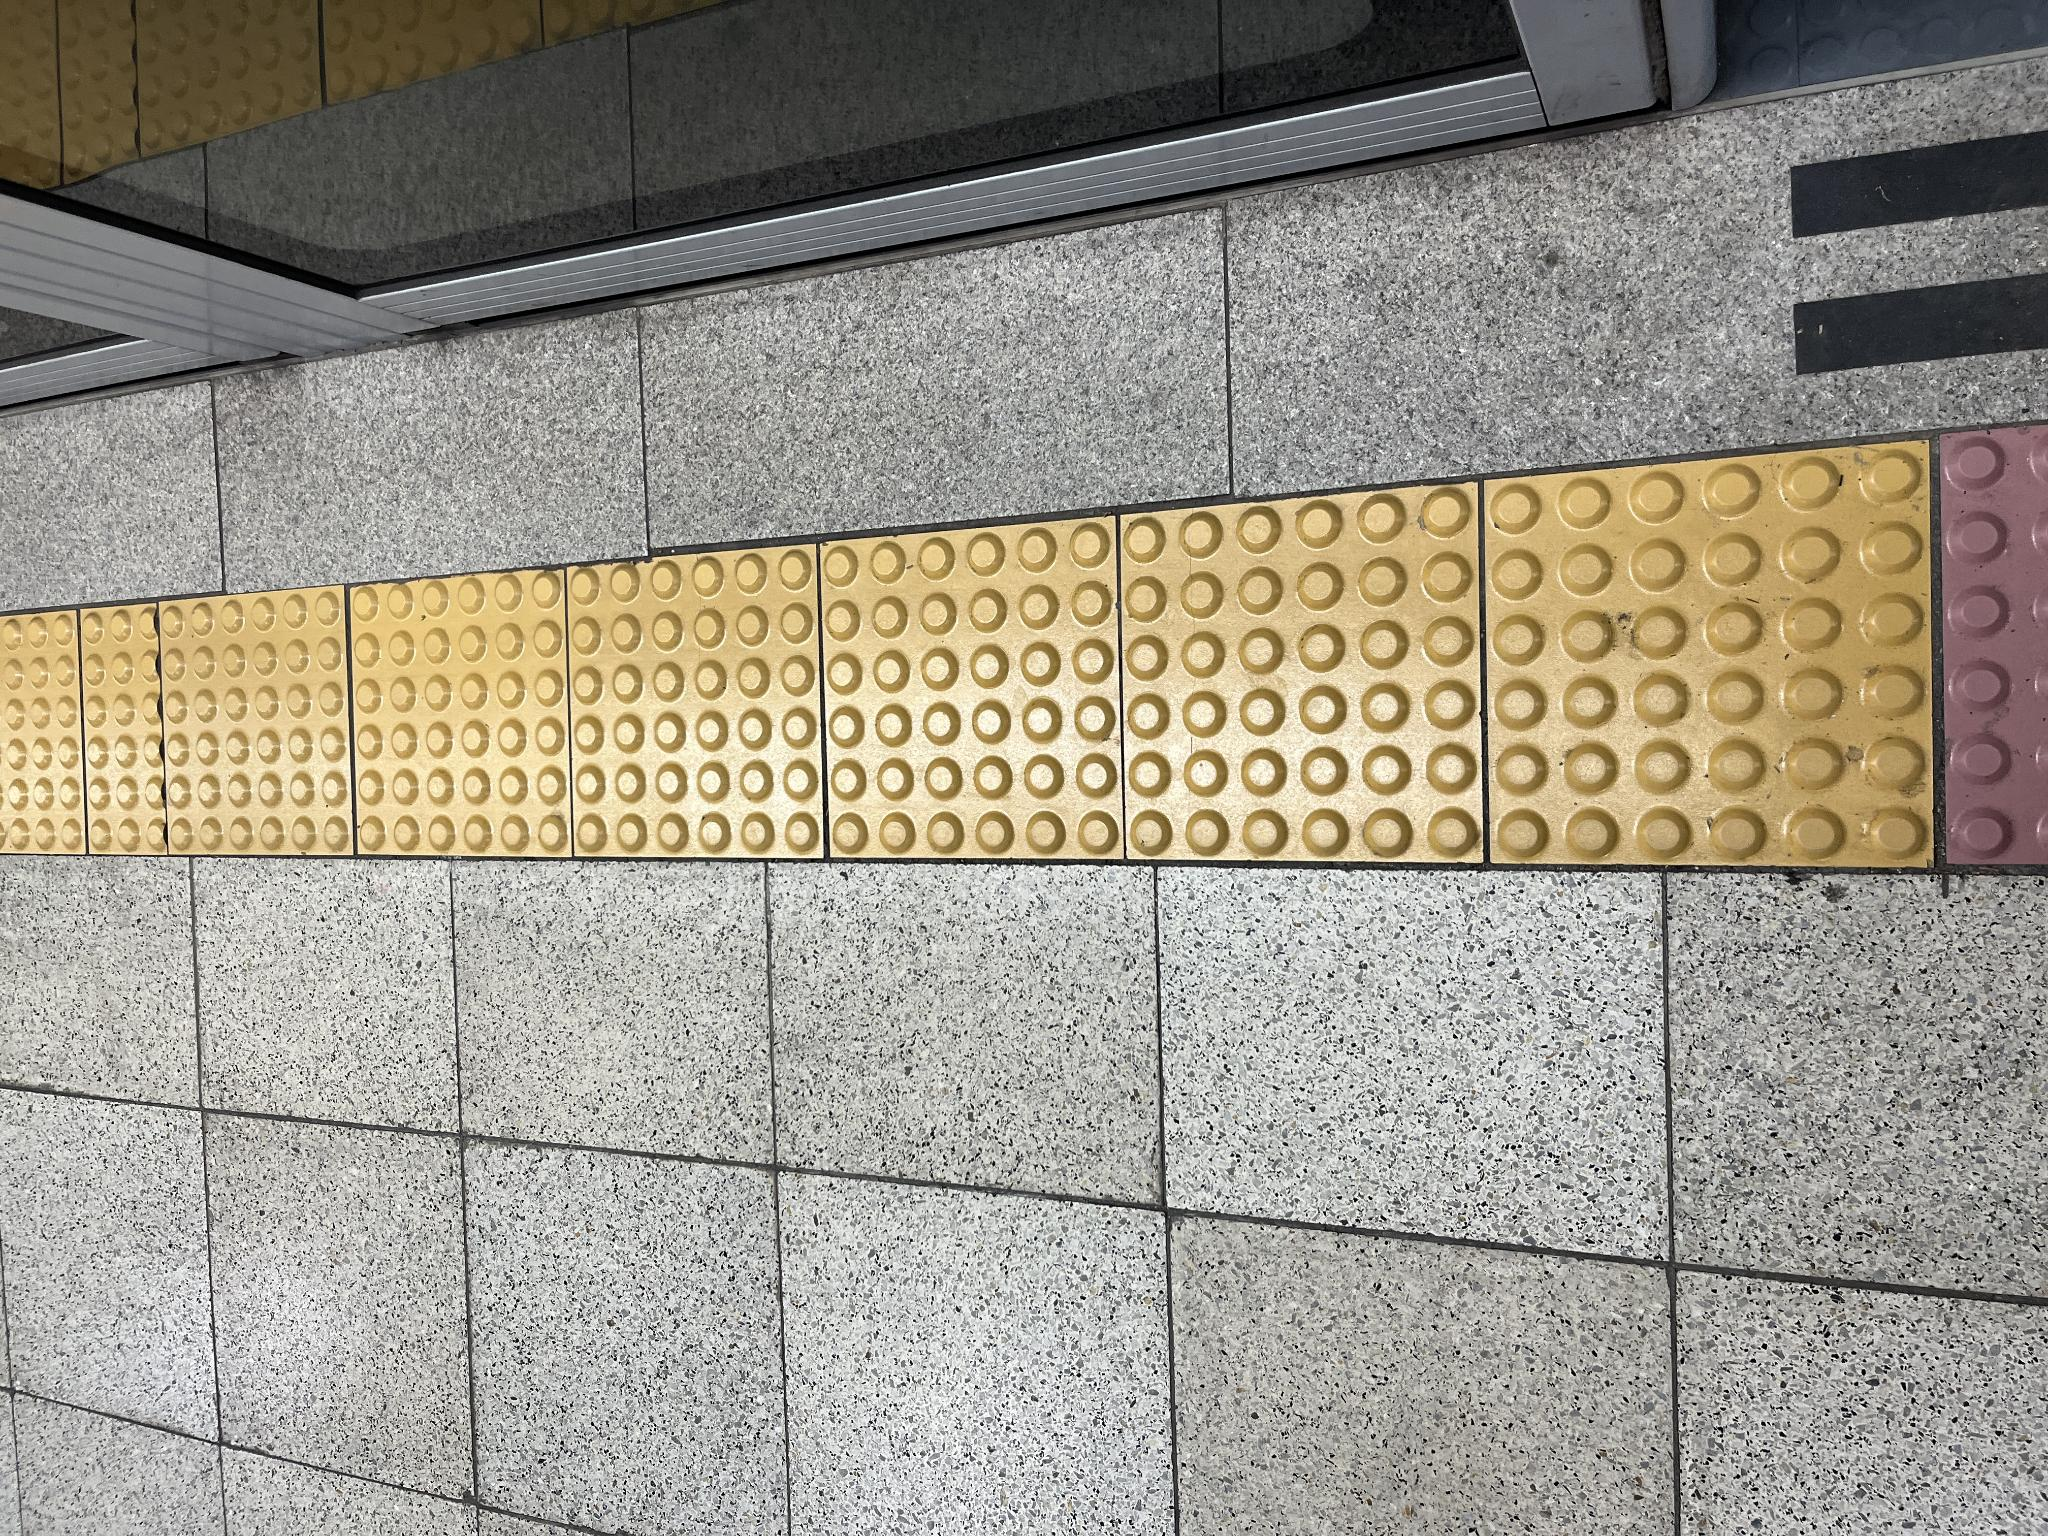Stop block normal: (674, 1120, 1053, 1480), (679, 821, 1019, 1120), (679, 568, 990, 821), (681, 350, 966, 568), (682, 161, 950, 352)
